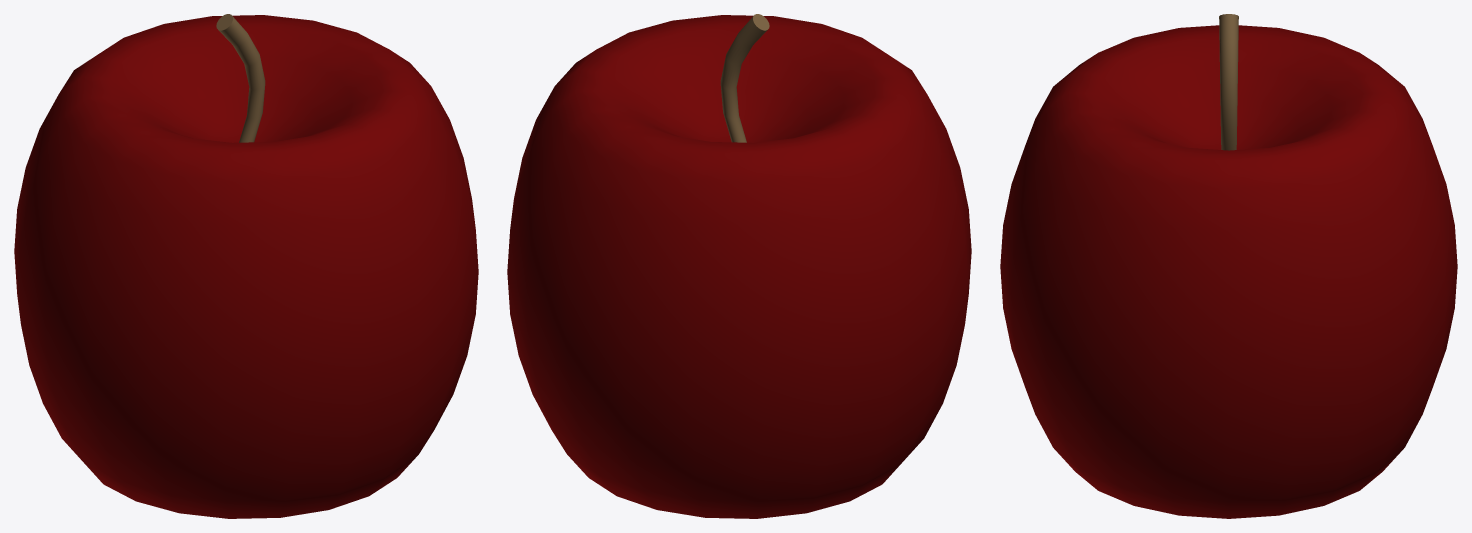
Rendered from apple.fbx.
The picture shows the model from 3 angles, left to right: view 1: azimuth 30°, elevation 25°; view 2: azimuth 150°, elevation 25°; view 3: azimuth 270°, elevation 25°; orthographic projection. The views are drawn at different scales.
Visible parts, largest first — view 1: pSphere1, pCylinder1; view 2: pSphere1, pCylinder1; view 3: pSphere1, pCylinder1.
Part boxes in pixels (bbox=[...]): pSphere1: bbox=[14, 15, 478, 518]; pCylinder1: bbox=[216, 14, 265, 142]; pSphere1: bbox=[507, 15, 971, 518]; pCylinder1: bbox=[720, 14, 769, 142]; pSphere1: bbox=[1000, 25, 1457, 518]; pCylinder1: bbox=[1219, 14, 1238, 150].
Bounding box in the file's own units: 1670 × 1755 × 1670.
